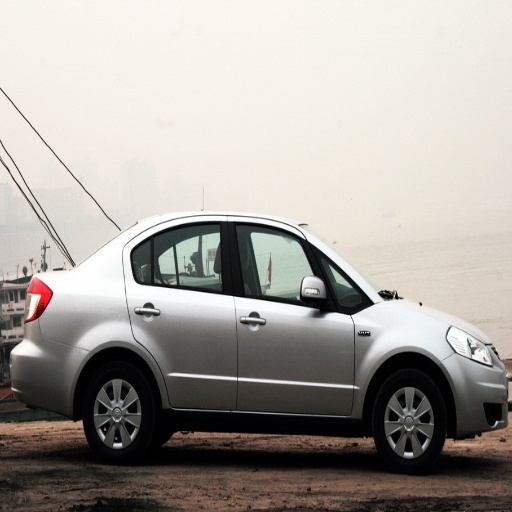back_right_door: (125, 218, 236, 407)
front_right_door: (232, 220, 367, 411)
front_right_light: (447, 328, 498, 365)
